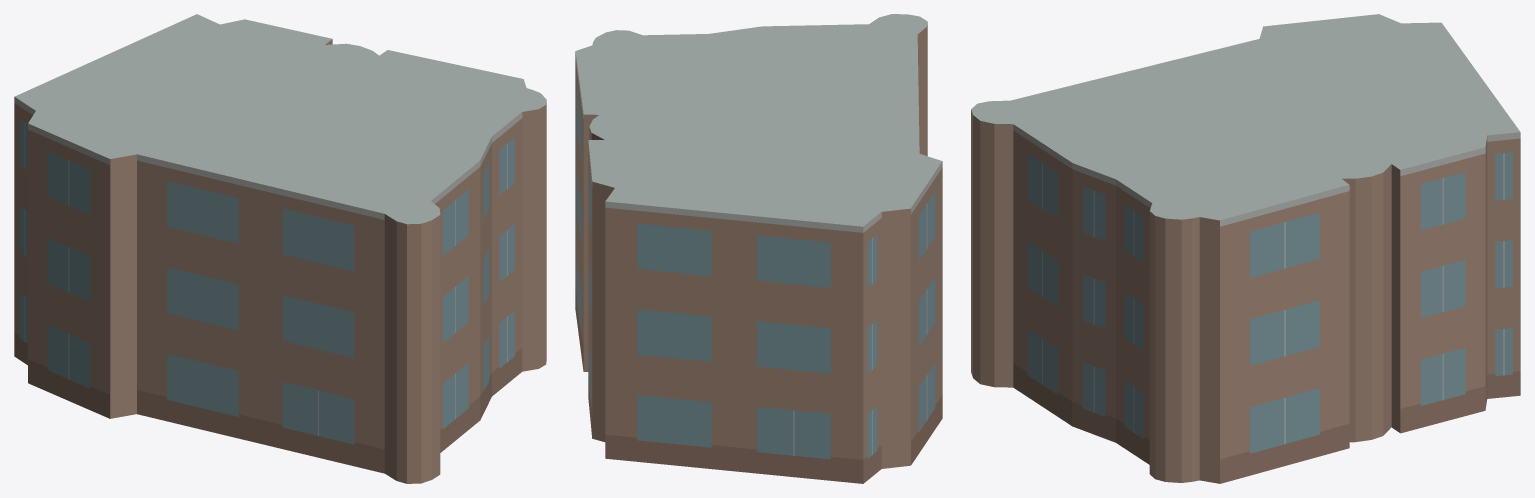
Rendered from survey-upis-32586035.glb.
3 renders of one model, left to right at view 1: azimuth 30°, elevation 25°; view 2: azimuth 150°, elevation 25°; view 3: azimuth 270°, elevation 25°, orthographic. The views are drawn at different scales.
Parts seen in each view (by area): view 1: survey-upis-32586035.tmp; view 2: survey-upis-32586035.tmp; view 3: survey-upis-32586035.tmp.
Boxes of the visible parts, x1=… form: survey-upis-32586035.tmp: x1=14, y1=14, x2=546, y2=483; survey-upis-32586035.tmp: x1=575, y1=14, x2=942, y2=483; survey-upis-32586035.tmp: x1=971, y1=14, x2=1520, y2=483.
Bounding box in the file's own units: 17.16 × 10.2 × 19.29.
